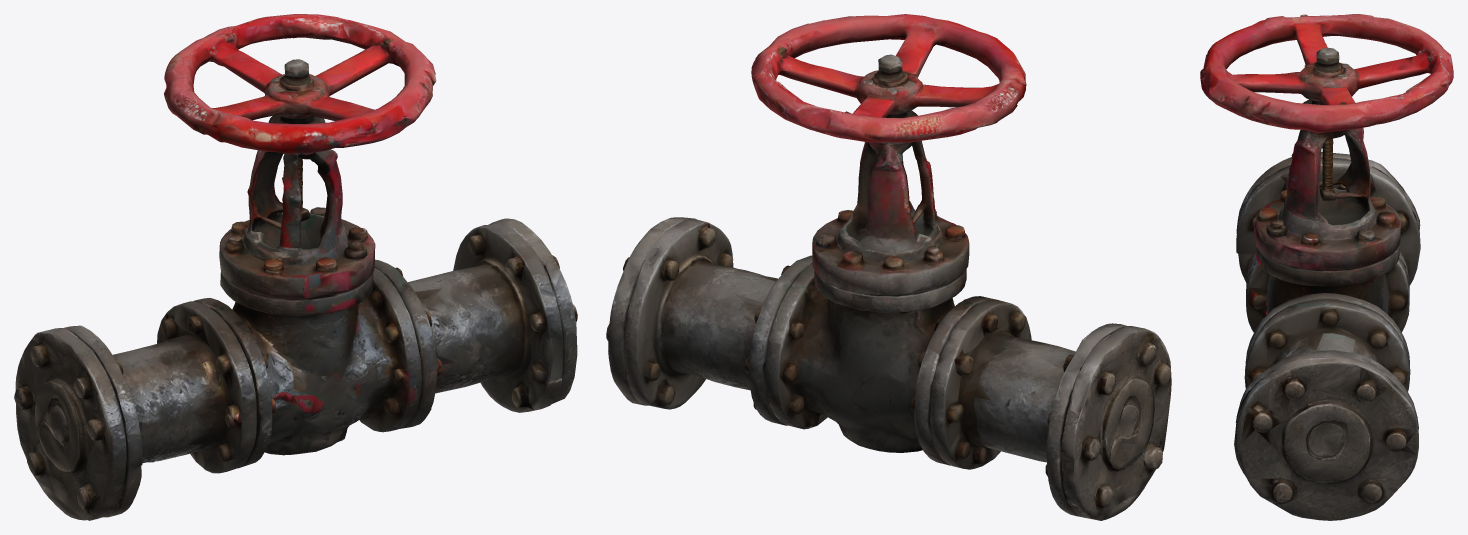
File: industrial_valve_wheel.fbx
3 renders of one model, left to right at view 1: azimuth 30°, elevation 25°; view 2: azimuth 150°, elevation 25°; view 3: azimuth 270°, elevation 25°, orthographic. The views are drawn at different scales.
Visible parts, largest first — view 1: industrial_valve_wheel; view 2: industrial_valve_wheel; view 3: industrial_valve_wheel.
Part boxes in pixels (left/top/right/bottom): industrial_valve_wheel: left=14, top=14, right=577, bottom=520; industrial_valve_wheel: left=606, top=14, right=1171, bottom=520; industrial_valve_wheel: left=1200, top=14, right=1453, bottom=520.
Size of the model in its own units: 0.5619 by 0.4398 by 0.2737.
1 material, 1 textured.
